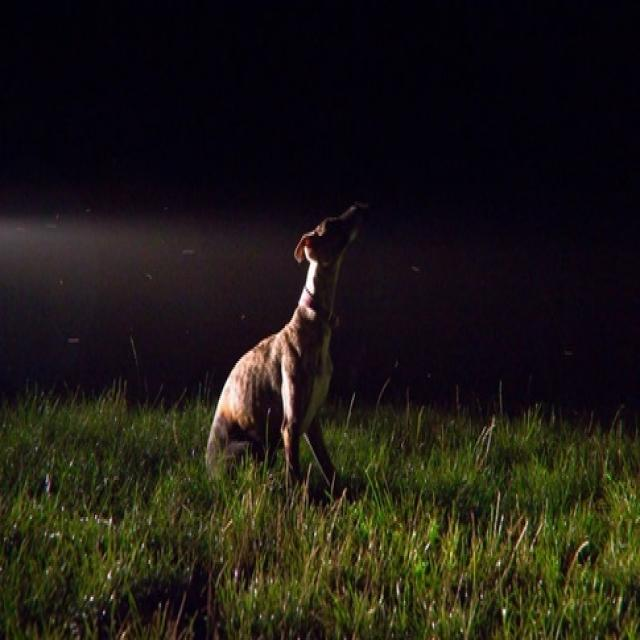Dog: (197, 146, 387, 529)
